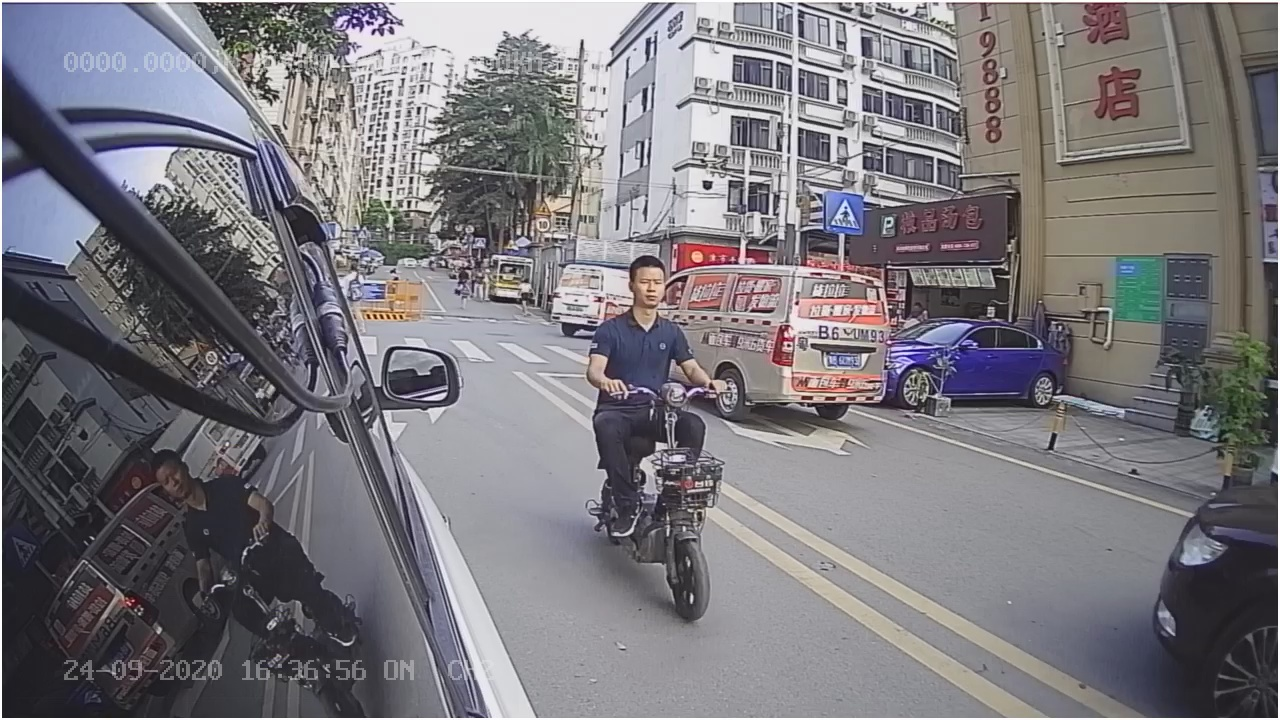person: (552, 253, 751, 626)
